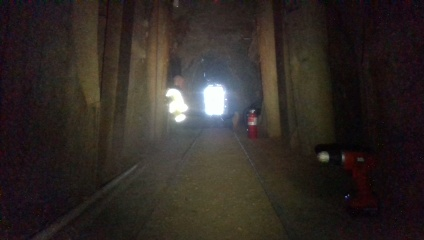drill: (315, 145, 379, 216)
fire_extinguisher: (239, 103, 260, 138)
manikin: (166, 74, 201, 129)
